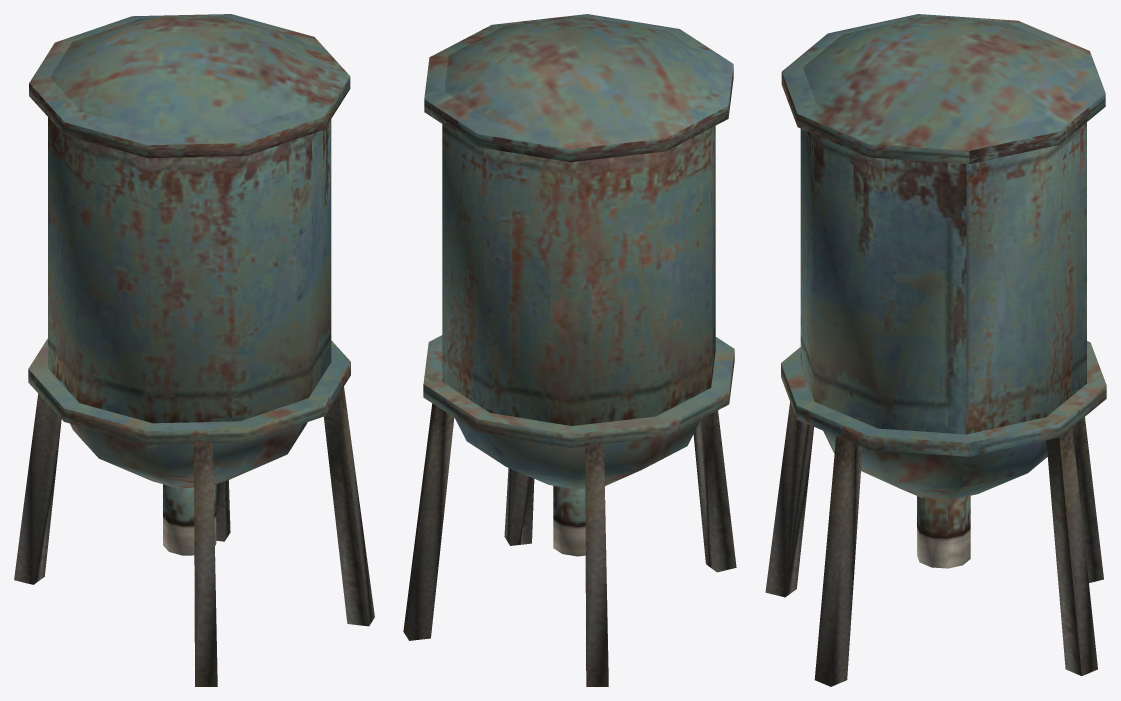
The model's file is Prop_Build09a.glb.
3 views of the same model, side by side, from view 1: azimuth 30°, elevation 25°; view 2: azimuth 150°, elevation 25°; view 3: azimuth 270°, elevation 25° (orthographic). The views are drawn at different scales.
Parts seen in each view (by area): view 1: xinshou_build09a; view 2: xinshou_build09a; view 3: xinshou_build09a.
Boxes of the visible parts, bbox=[...] form: xinshou_build09a: bbox=[14, 14, 374, 686]; xinshou_build09a: bbox=[403, 14, 736, 686]; xinshou_build09a: bbox=[765, 14, 1106, 686].
Bounding box in the file's own units: 6.12 × 12.18 × 6.42.
1 material, 1 textured.
